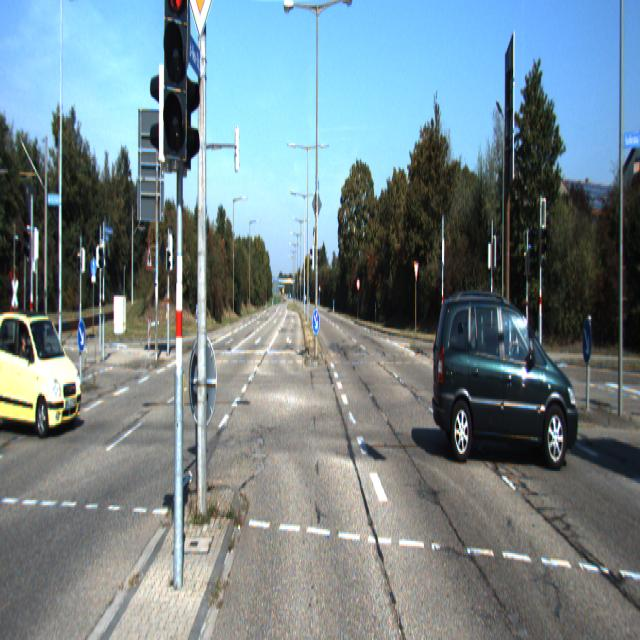Car: (428, 279, 581, 470), (0, 304, 84, 432)
DontCare: (276, 276, 313, 310)
